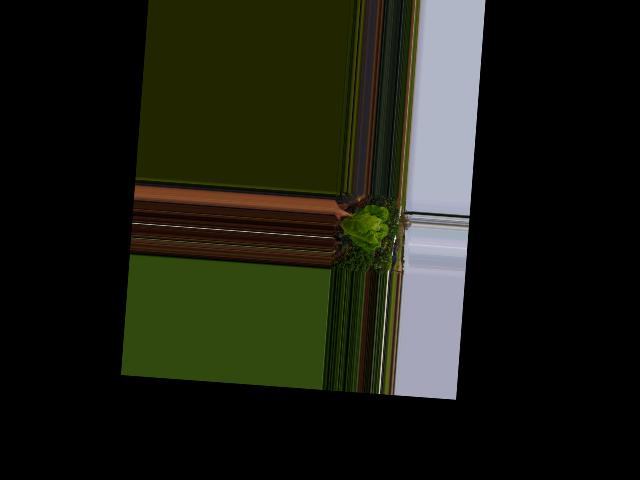lettuce: (335, 200, 390, 253)
